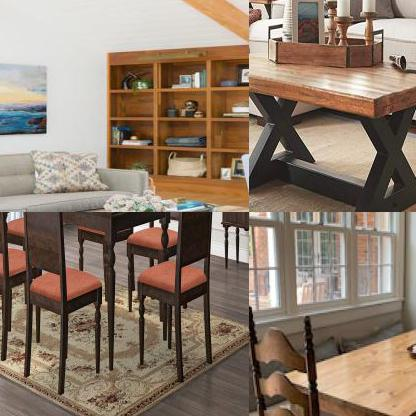table: (249, 32, 415, 211), (0, 212, 178, 378), (274, 322, 415, 415)
